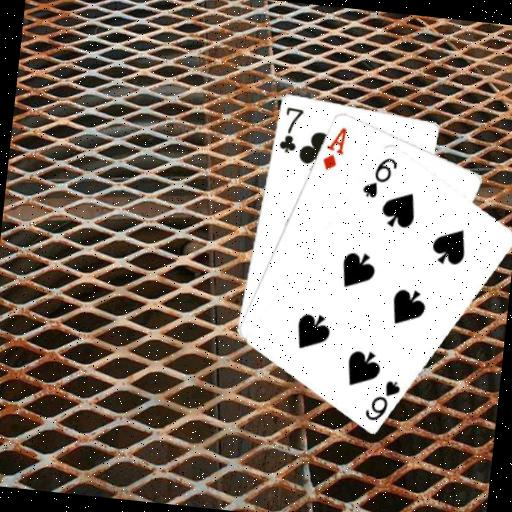6S: (361, 374, 403, 425), (359, 152, 401, 202)
7C: (275, 103, 306, 155)
AD: (319, 122, 349, 173)
